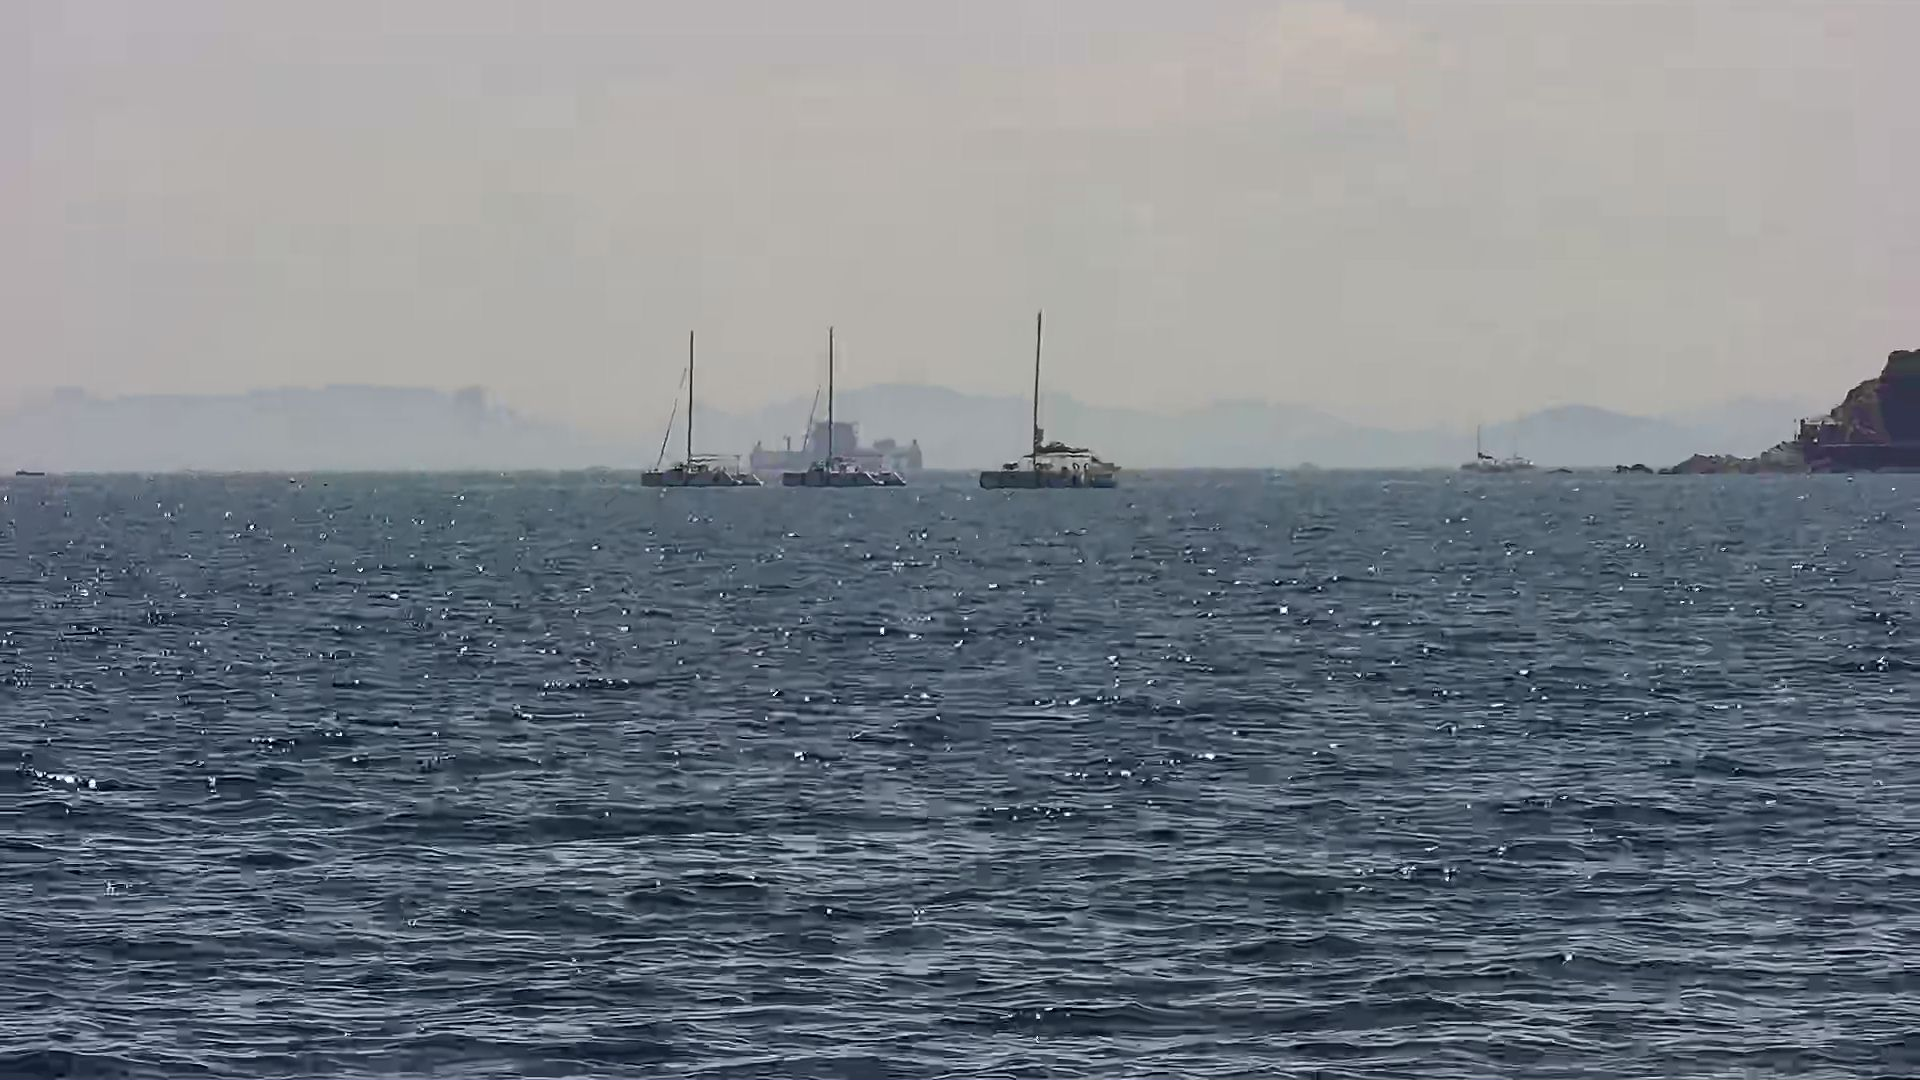boat: (973, 307, 1130, 489), (777, 326, 907, 492), (645, 323, 764, 487)
platform: (745, 411, 927, 477)
